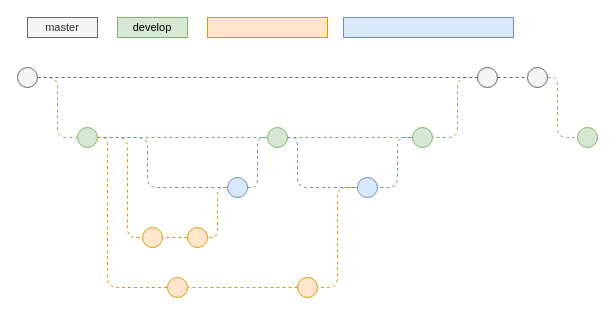
This 615x315 diagram has some shape labels left out. The shapes that lost their labels are listed below. From the top down, each one's centre as x and y in pixels, then its label:
pixel 267 27: feature/< id >-< name >
pixel 428 27: feature-to-develop/< id >-< name >
